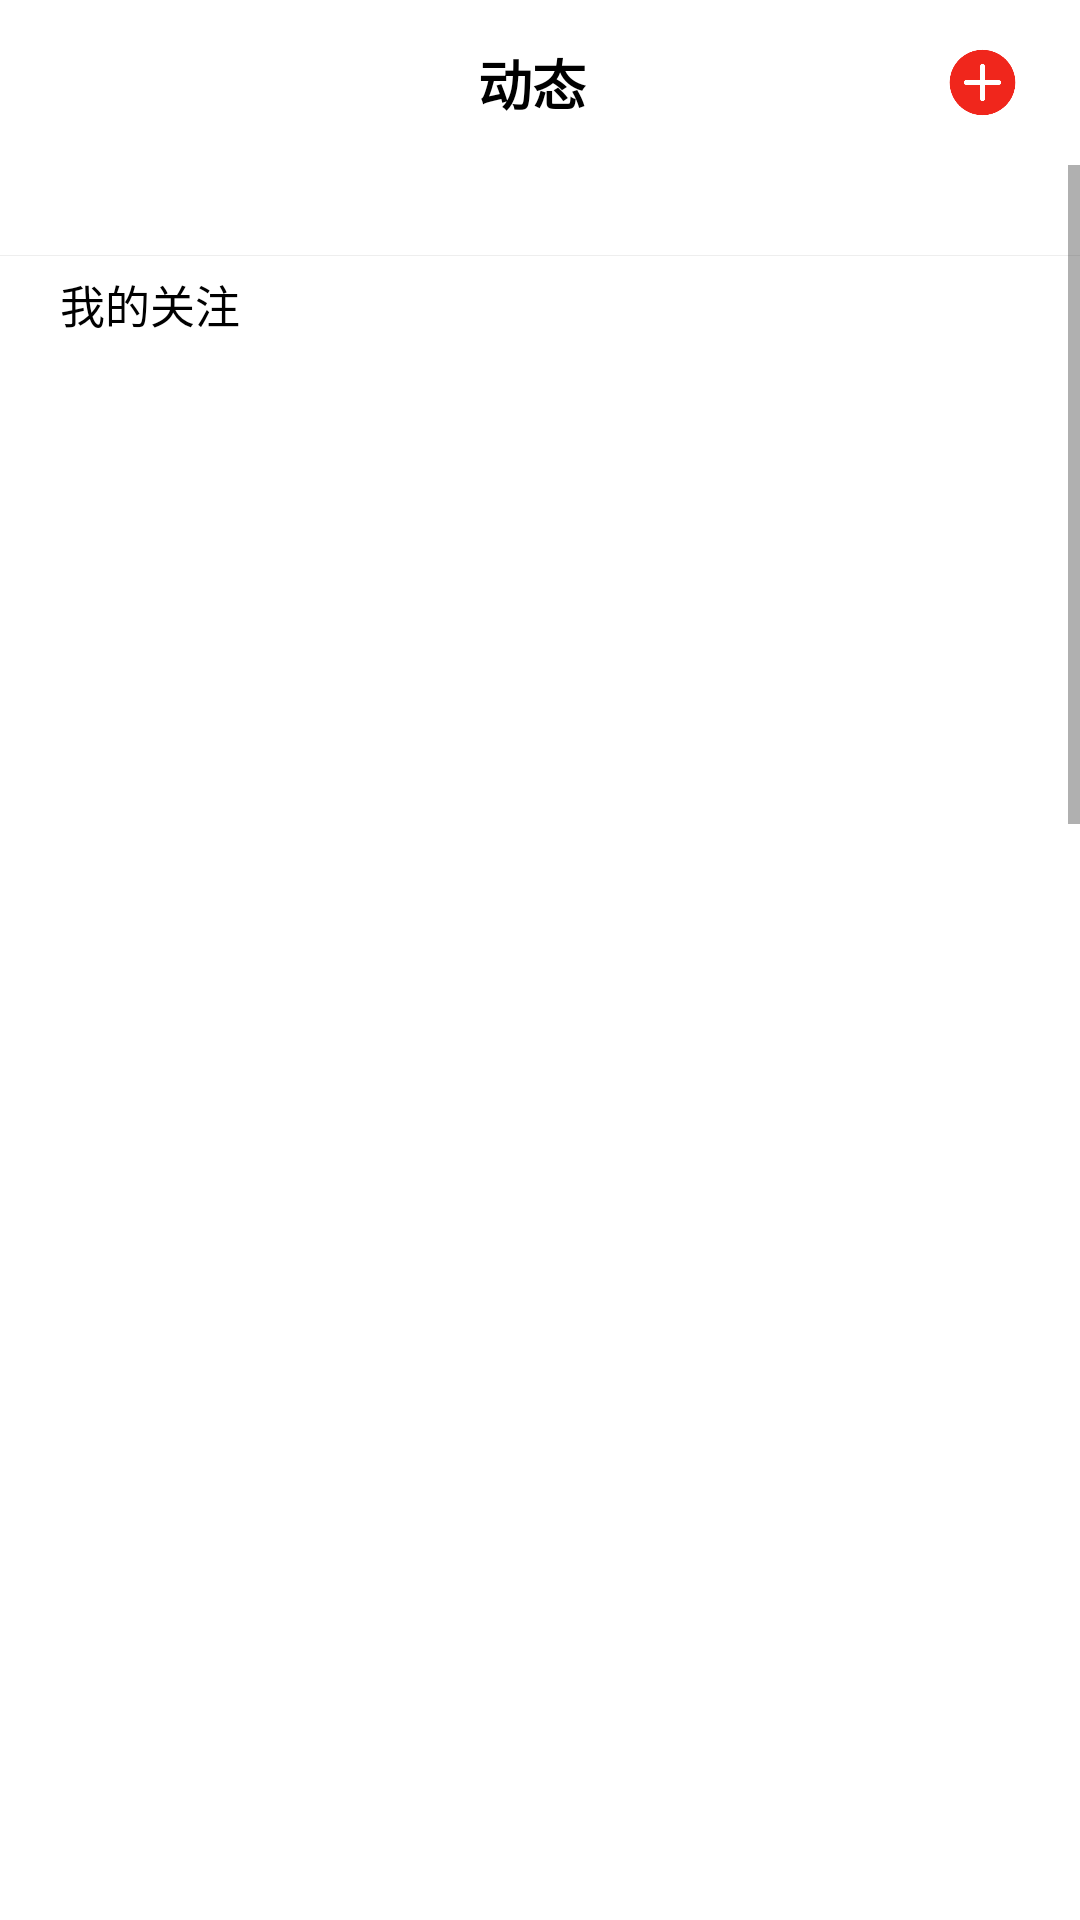

Screen size 1080×1920. Icon name, then its center in pixels as (x,y):
plus: (982,82)
